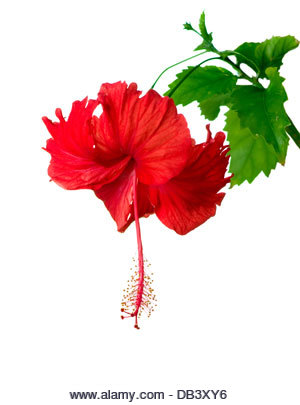Hibiscus: (38, 70, 234, 333)
